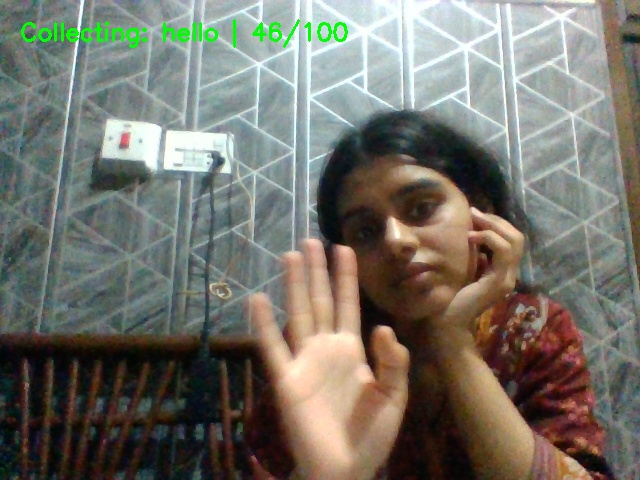hello: (242, 240, 423, 469)
